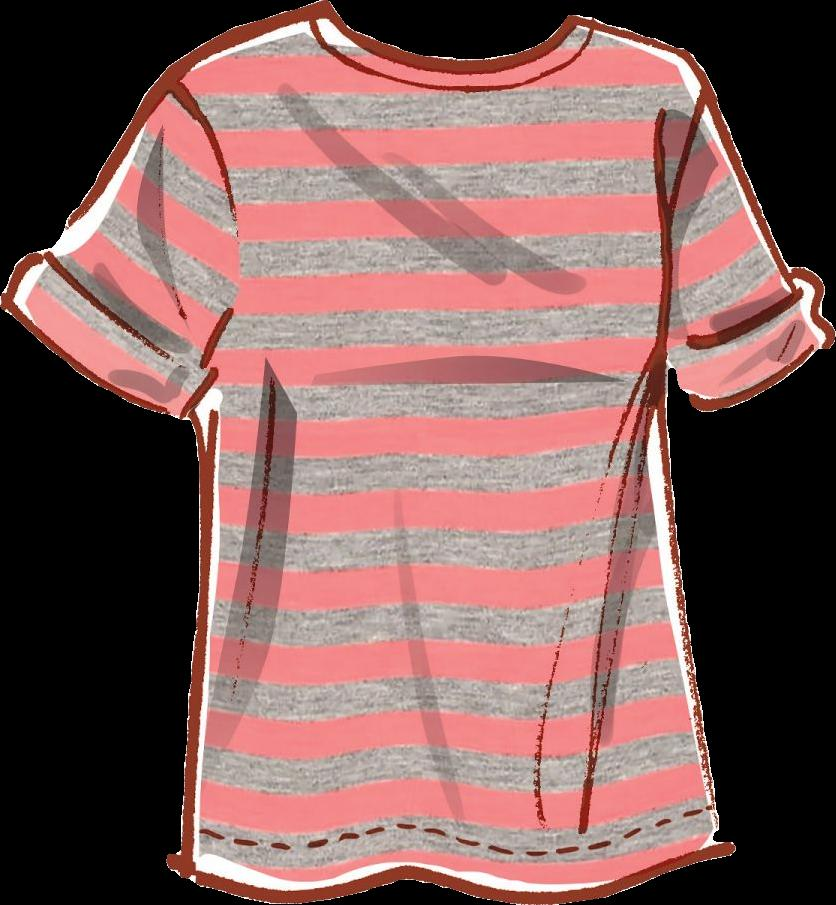Bodice: (167, 0, 727, 904)
Neckline: (292, 6, 603, 96), (319, 0, 573, 72)
Sleeve: (1, 62, 237, 420), (665, 79, 834, 411)
Sleeveline: (172, 62, 714, 348)
Waistline: (180, 843, 723, 904)
